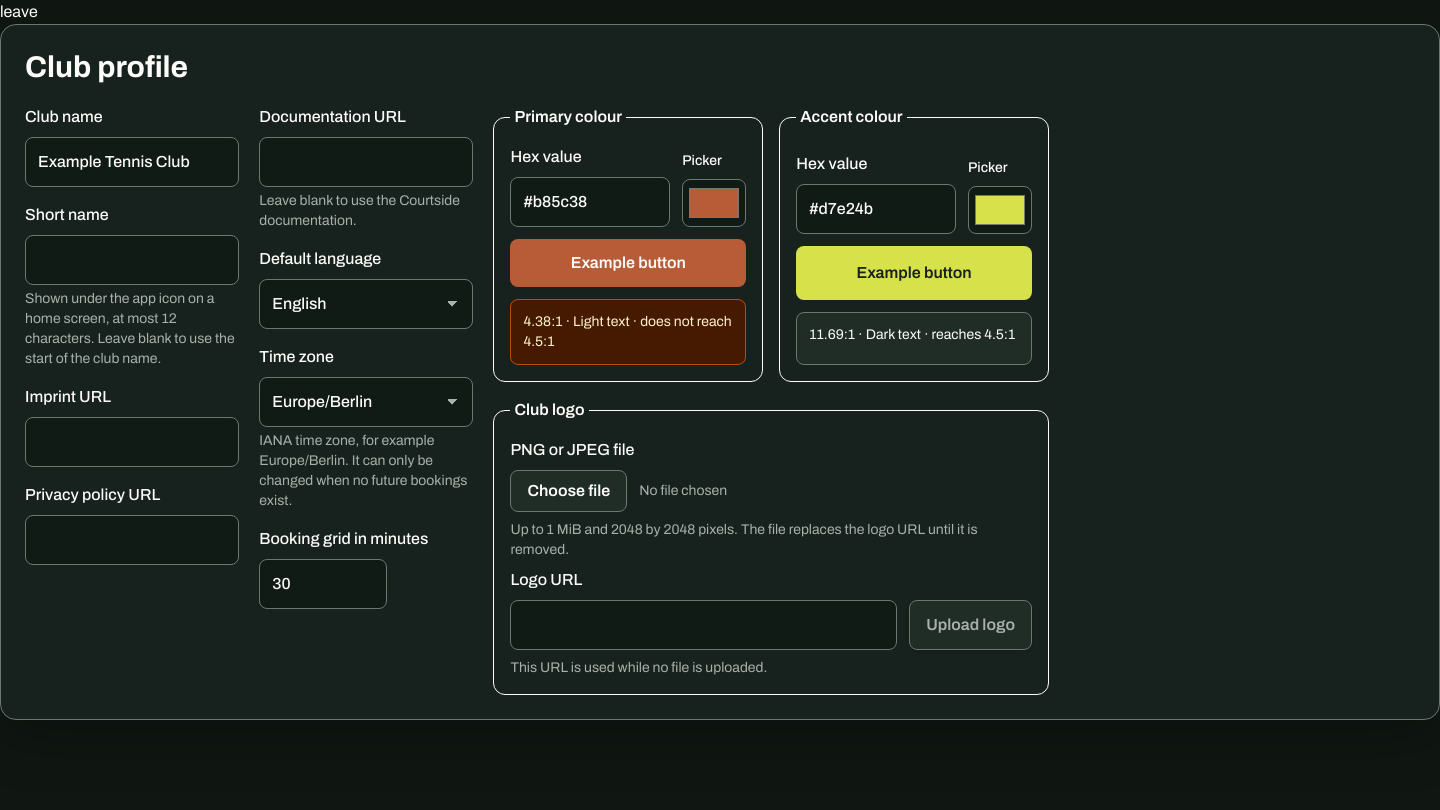
Test: leaving an administrative page with unsaved work › given an edit on the club profile page, when another page is opened, then the page asks first
In the field with test id "club-name": (132, 162) [25,137,239,187], type "!"
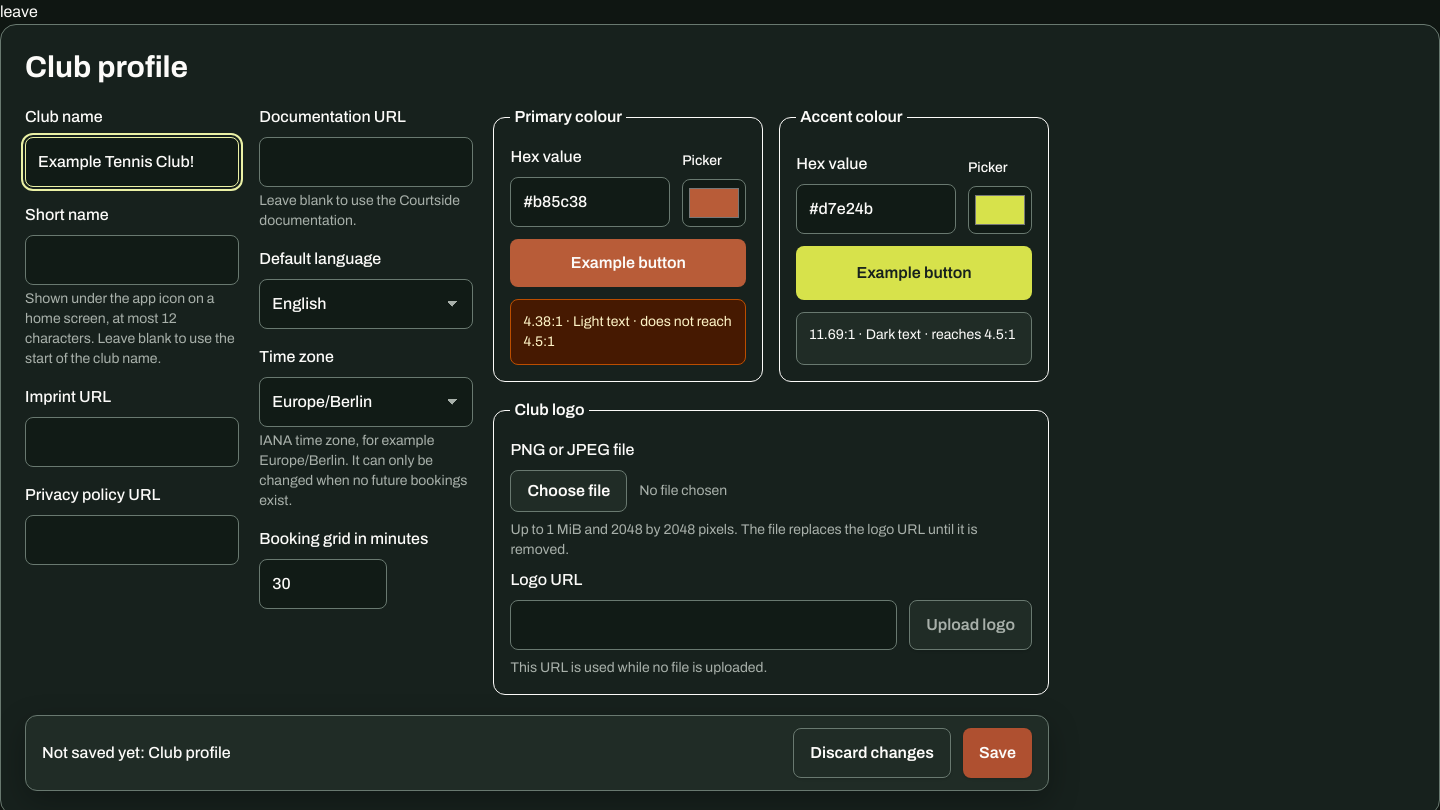
Now the element with test id "save-bar" is shown, box [25,715,1049,791]
Click the link with test id "leave": (19, 12) [0,3,38,20]
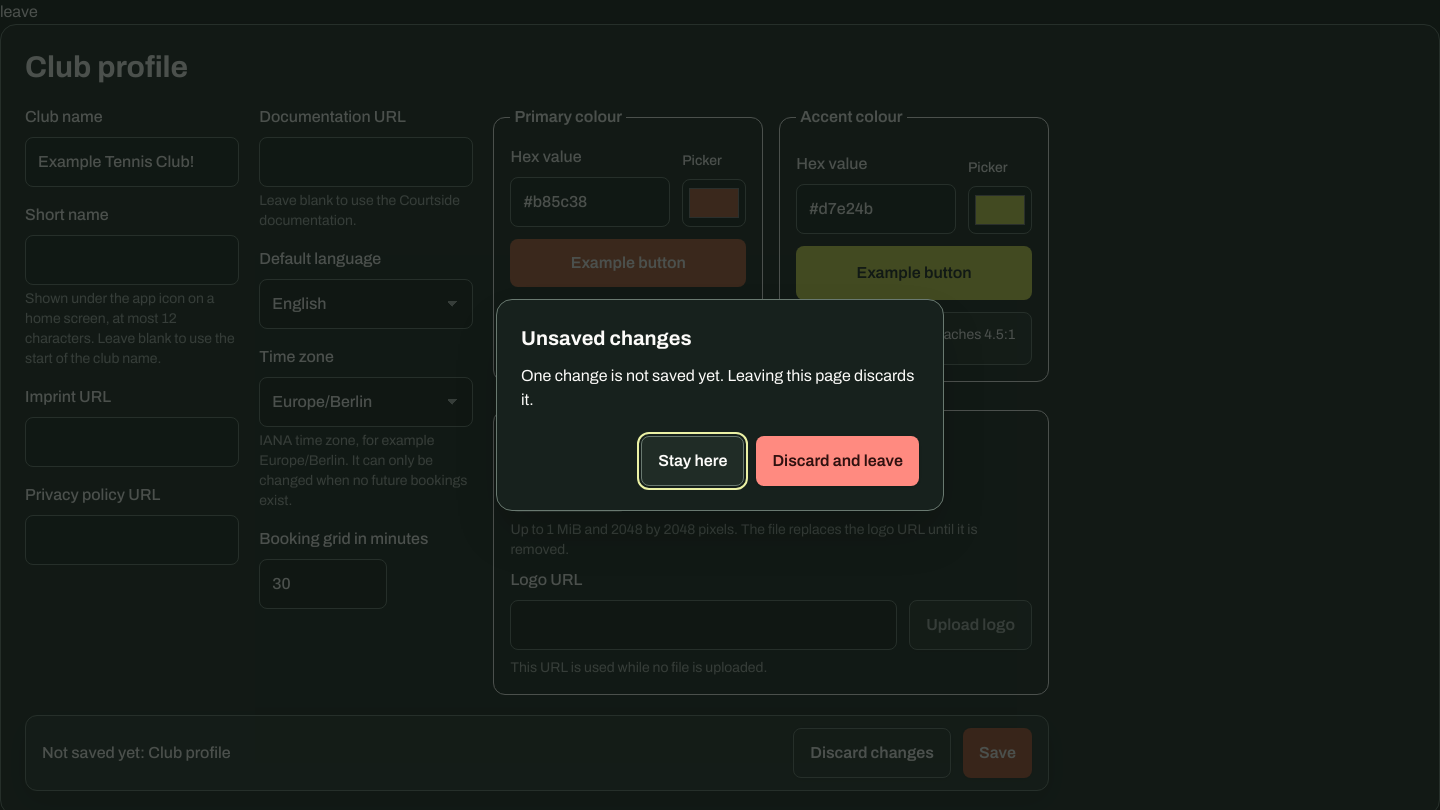
Now the dialog with test id "unsaved-changes" is shown, box [496,299,944,511]
